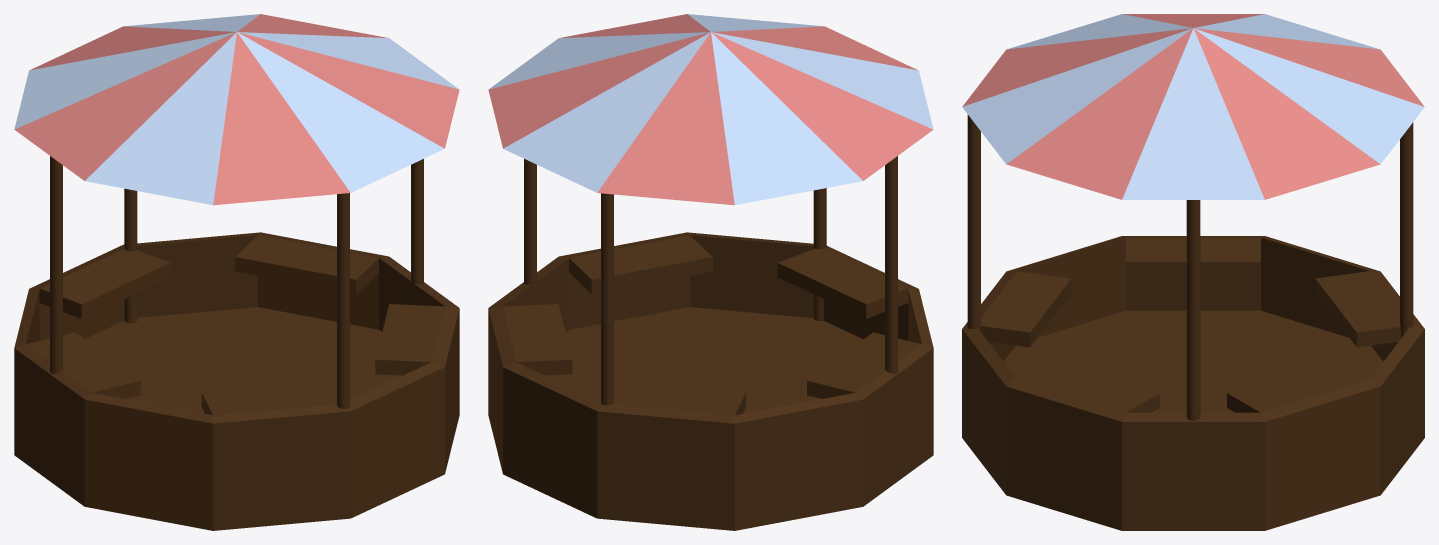
File: basar.fbx
3 renders of one model, left to right at view 1: azimuth 30°, elevation 25°; view 2: azimuth 150°, elevation 25°; view 3: azimuth 270°, elevation 25°, orthographic.
Parts seen in each view (by area): view 1: Circle, Cone, Cylinder.003, Cylinder.001, Cylinder, Cylinder.002; view 2: Circle, Cone, Cylinder.001, Cylinder.002, Cylinder, Cylinder.003; view 3: Circle, Cone, Cylinder, Cylinder.003, Cylinder.002.
Boxes of the visible parts, <box> form: Circle: <box>14,232,459,530</box>; Cone: <box>14,14,459,205</box>; Cylinder.003: <box>337,193,349,408</box>; Cylinder.001: <box>50,156,62,373</box>; Cylinder: <box>411,159,423,304</box>; Cylinder.002: <box>124,188,137,323</box>; Circle: <box>488,232,933,530</box>; Cone: <box>488,14,933,205</box>; Cylinder.001: <box>885,156,897,373</box>; Cylinder.002: <box>601,193,613,405</box>; Cylinder: <box>524,159,536,304</box>; Cylinder.003: <box>813,188,826,320</box>; Circle: <box>962,236,1424,530</box>; Cone: <box>962,14,1424,199</box>; Cylinder: <box>1186,200,1200,420</box>; Cylinder.003: <box>967,114,980,331</box>; Cylinder.002: <box>1400,122,1413,338</box>.
Size of the model in its own units: 190 by 195 by 200.
